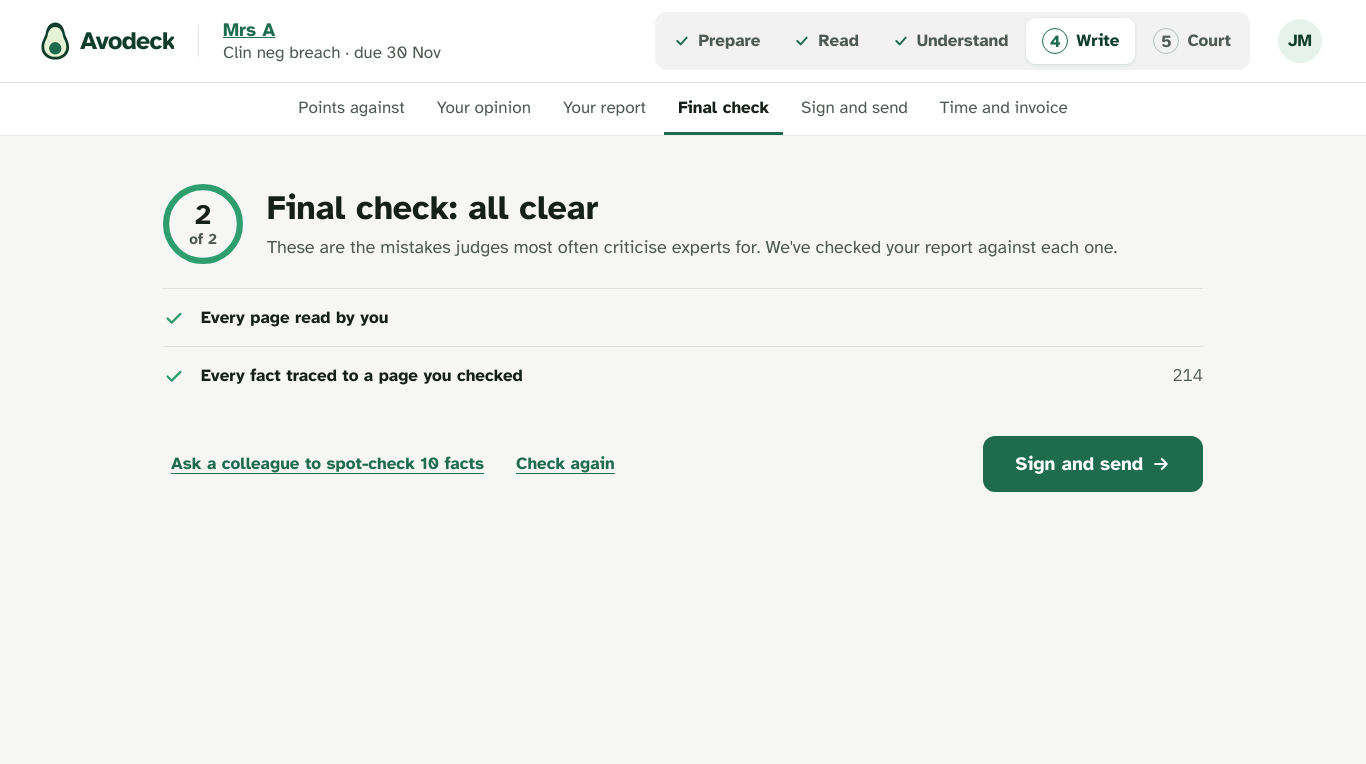
a colleague spot-check sends the email, shows the link once and says the code goes by email
The image size is (1366, 764).
Click the button "Ask a colleague to spot-check 10 facts" at (328,464), box [163,438,492,490]
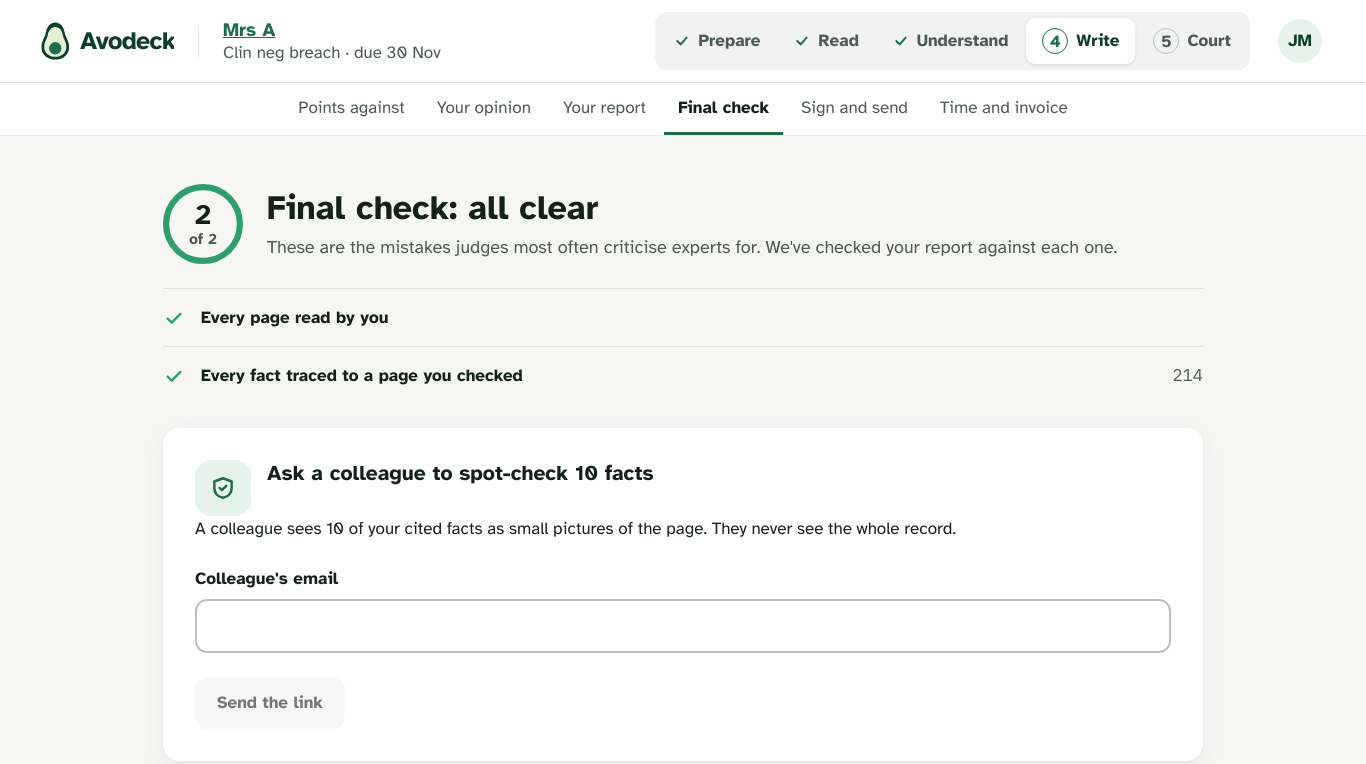
Type "colleague@example.test" into the field labelled "Colleague's email" at (683,626), box [195,599,1171,652]
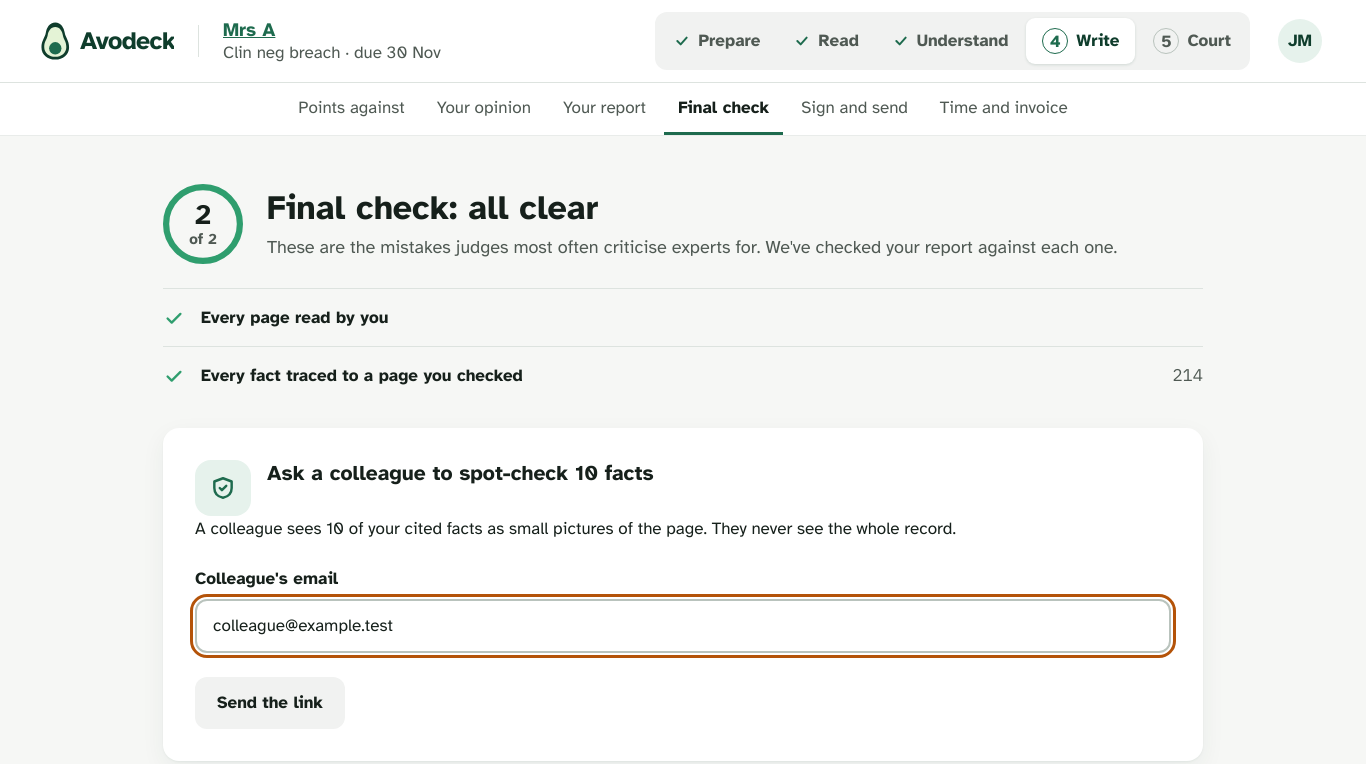
Click the button "Send the link" at (270,702), box [195,676,345,728]
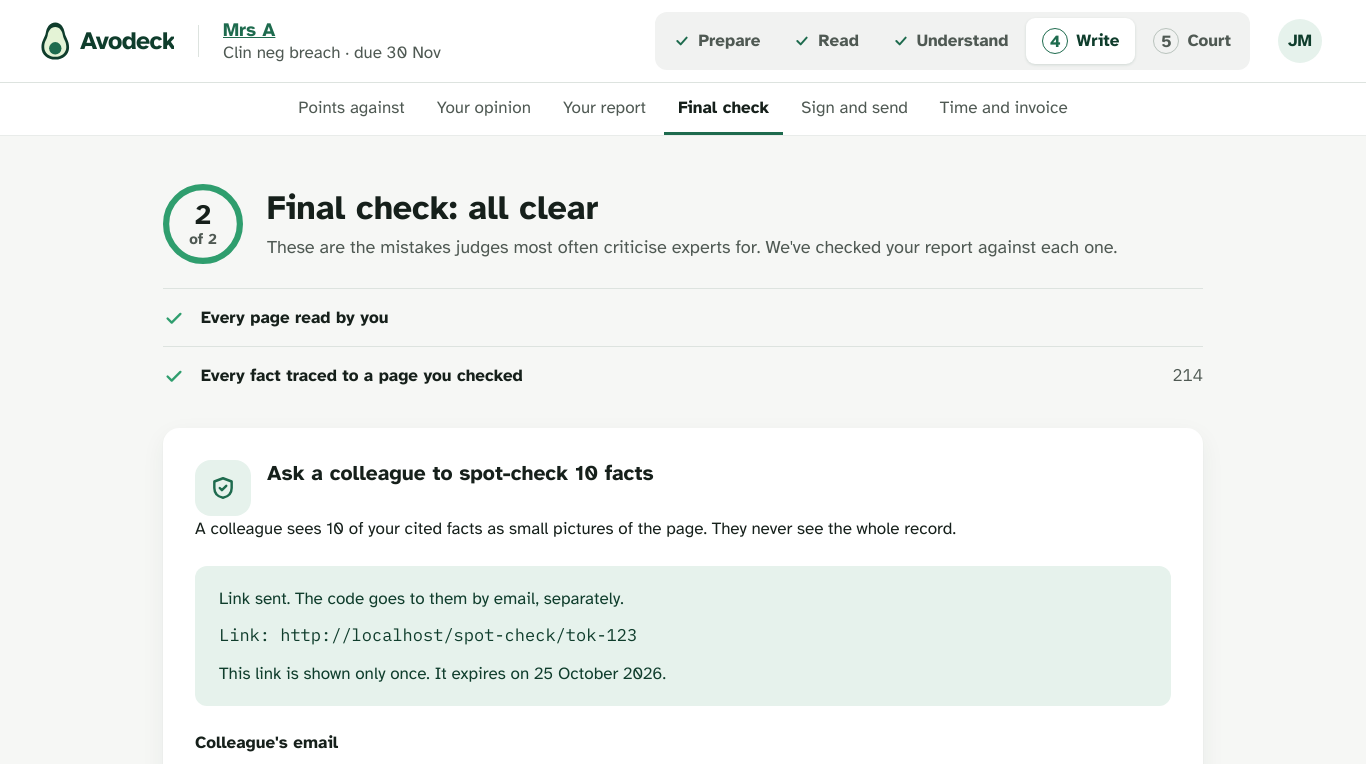
expect the text "Link sent. The code goes to them by email, separately." is shown: met, box [219,588,624,608]
